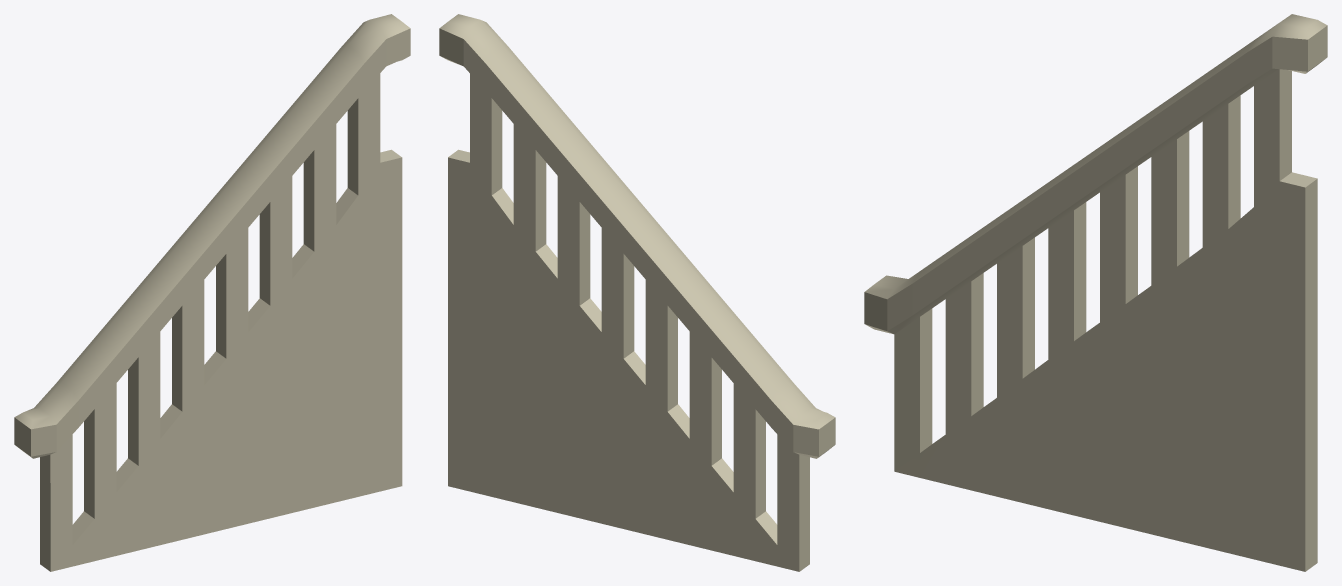
Rendered from StairRail.fbx.
The picture shows the model from 3 angles, left to right: view 1: azimuth 30°, elevation 25°; view 2: azimuth 150°, elevation 25°; view 3: azimuth 330°, elevation 25°; orthographic projection. The views are drawn at different scales.
Visible parts, largest first — view 1: StairRail; view 2: StairRail; view 3: StairRail.
Boxes of the visible parts, left/top/right/bottom form: StairRail: left=14, top=14, right=410, bottom=571; StairRail: left=439, top=14, right=835, bottom=571; StairRail: left=864, top=14, right=1327, bottom=571.
Size of the model in its own units: 2.16 by 2.52 by 0.2254.
